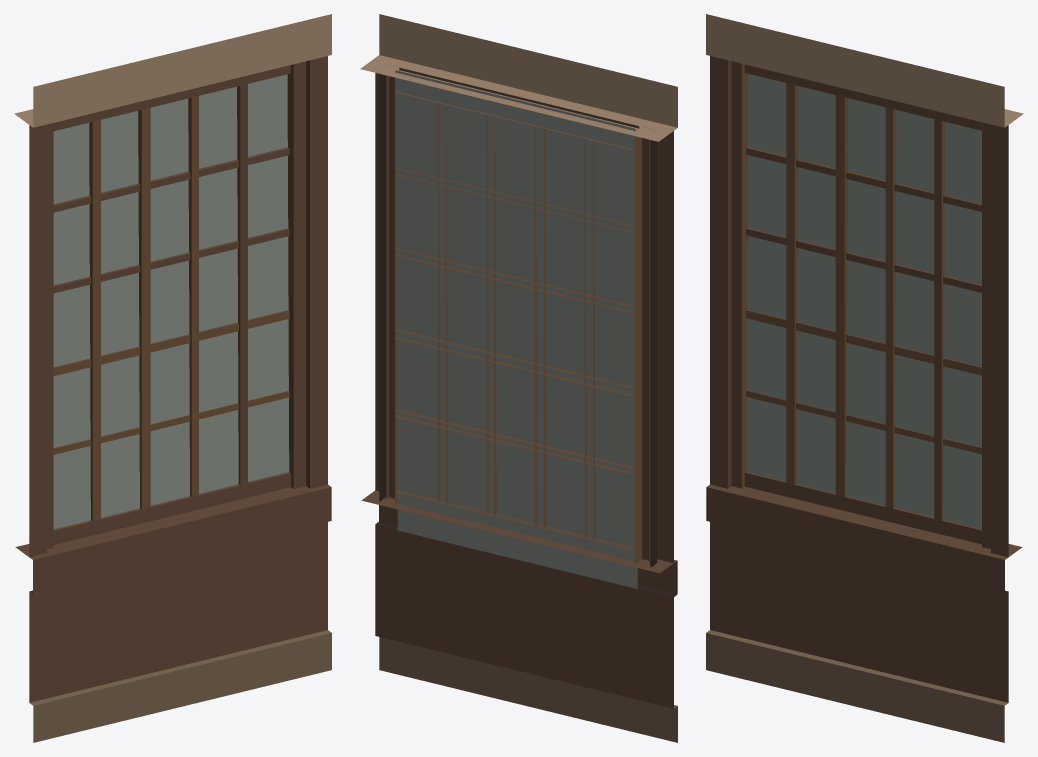
3 renders of one model, left to right at view 1: azimuth 30°, elevation 25°; view 2: azimuth 150°, elevation 25°; view 3: azimuth 330°, elevation 25°, orthographic.
Parts seen in each view (by area): view 1: windoWall inside; view 2: windoWall inside; view 3: windoWall inside.
Boxes of the visible parts, x1,y1,x2,y2 form: windoWall inside: (14, 14, 331, 742); windoWall inside: (360, 14, 677, 742); windoWall inside: (706, 14, 1023, 742).
Size of the model in its own units: 1.24 by 2.6 by 0.1384.
